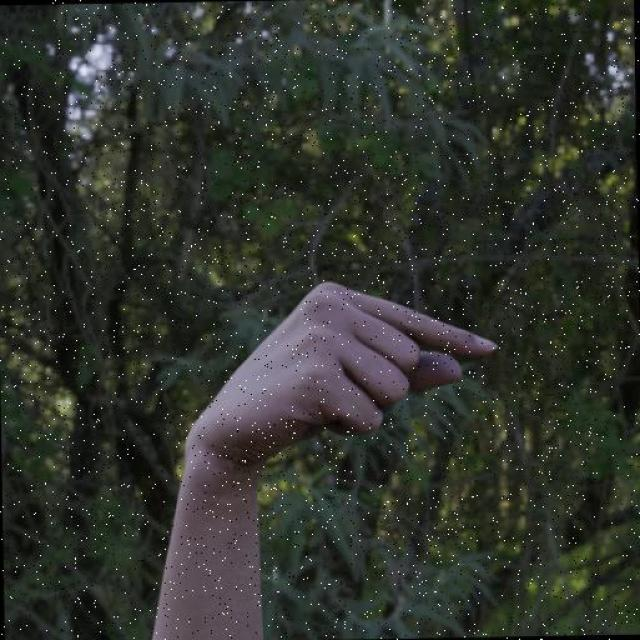G: (182, 278, 504, 464)
